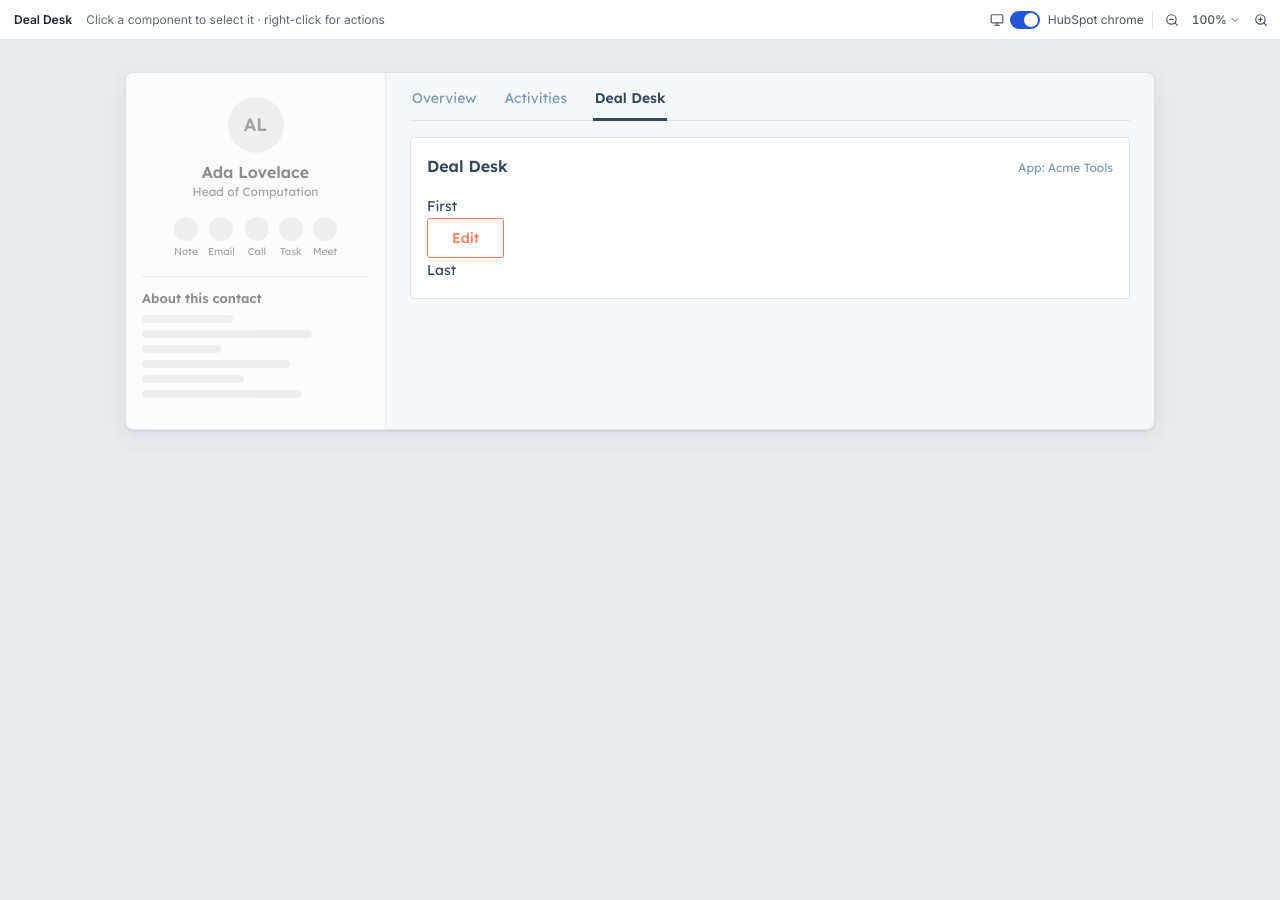
Test case: context menu › deletes, but not locked nodes
Right-click the text "Last" at (442, 270), box [427, 261, 456, 279]
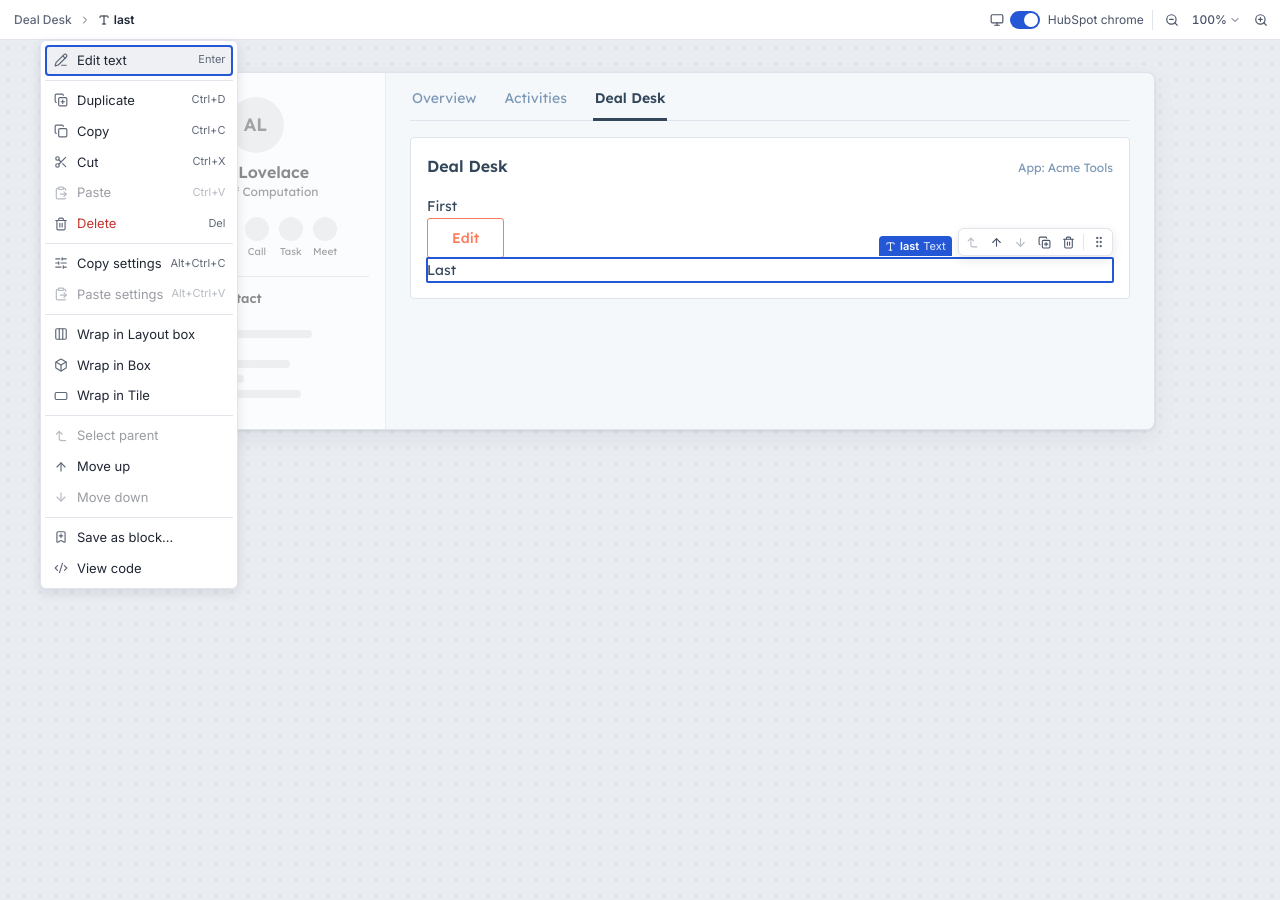
Click the menu item "Delete Del" at (139, 224), box [45, 208, 233, 239]
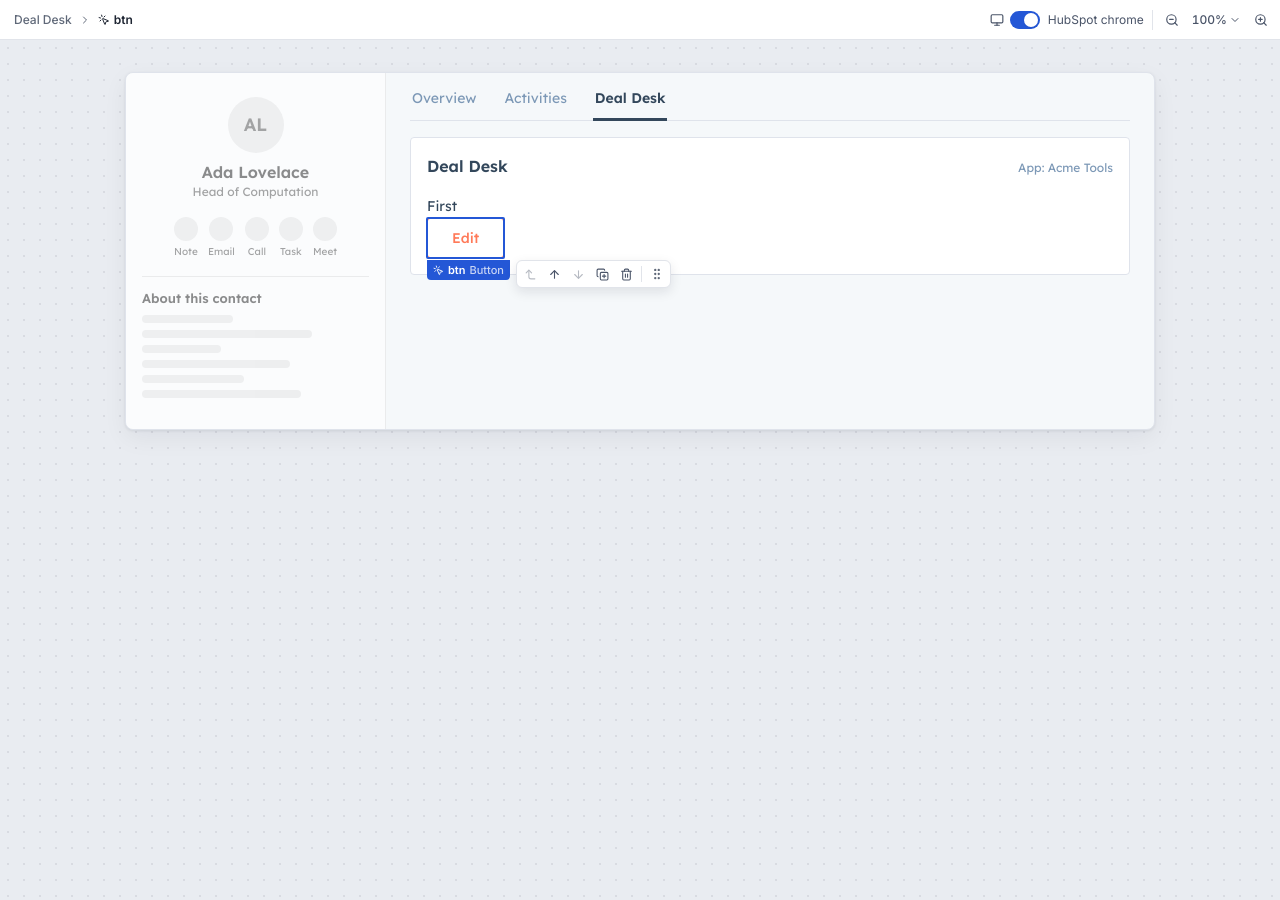
Right-click the text "First" at (442, 206), box [427, 197, 457, 215]
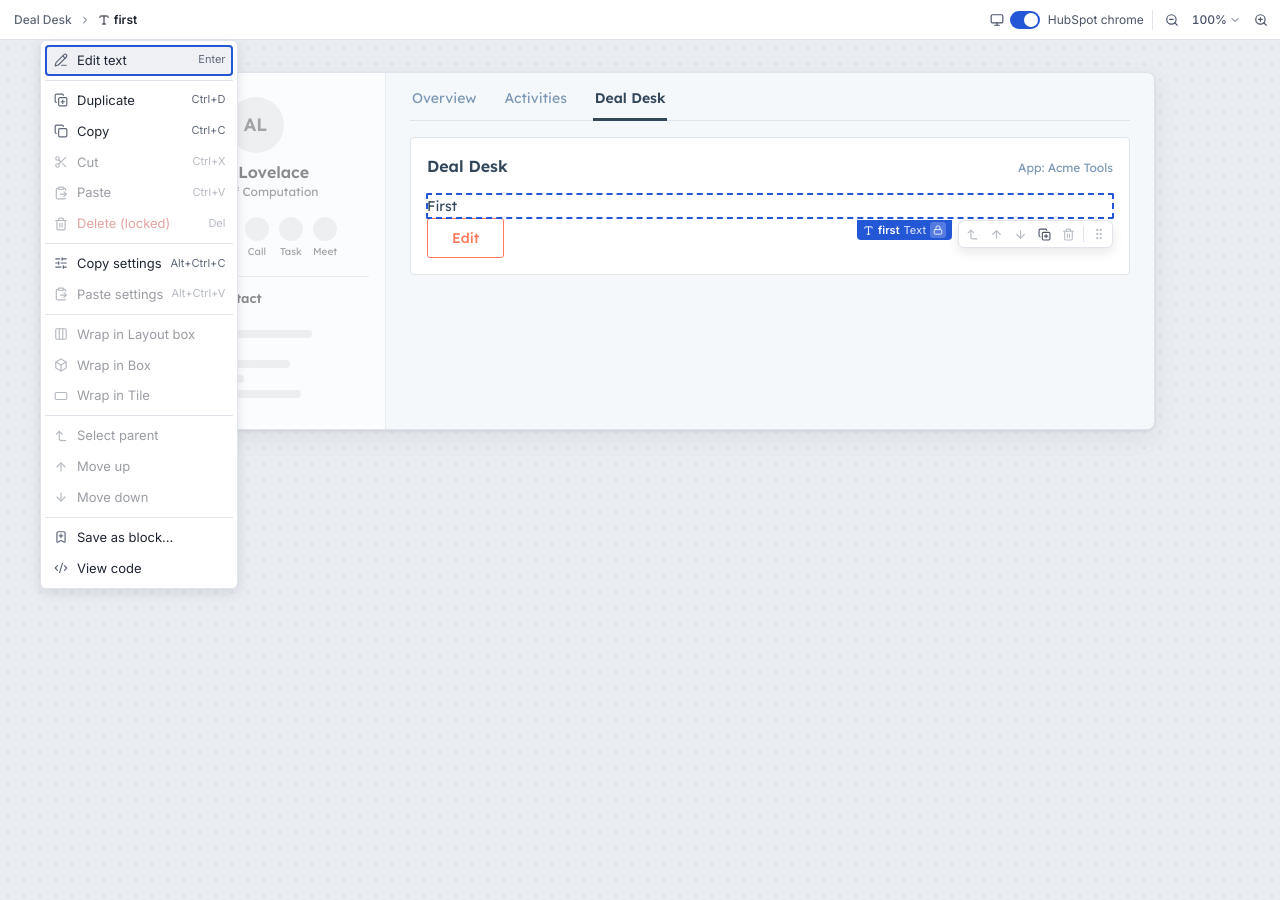
Check: the menu item "Delete (locked) Del" is disabled, box [45, 208, 233, 239]
Check: the menu item "Cut Ctrl+X" is disabled, box [45, 146, 233, 177]
